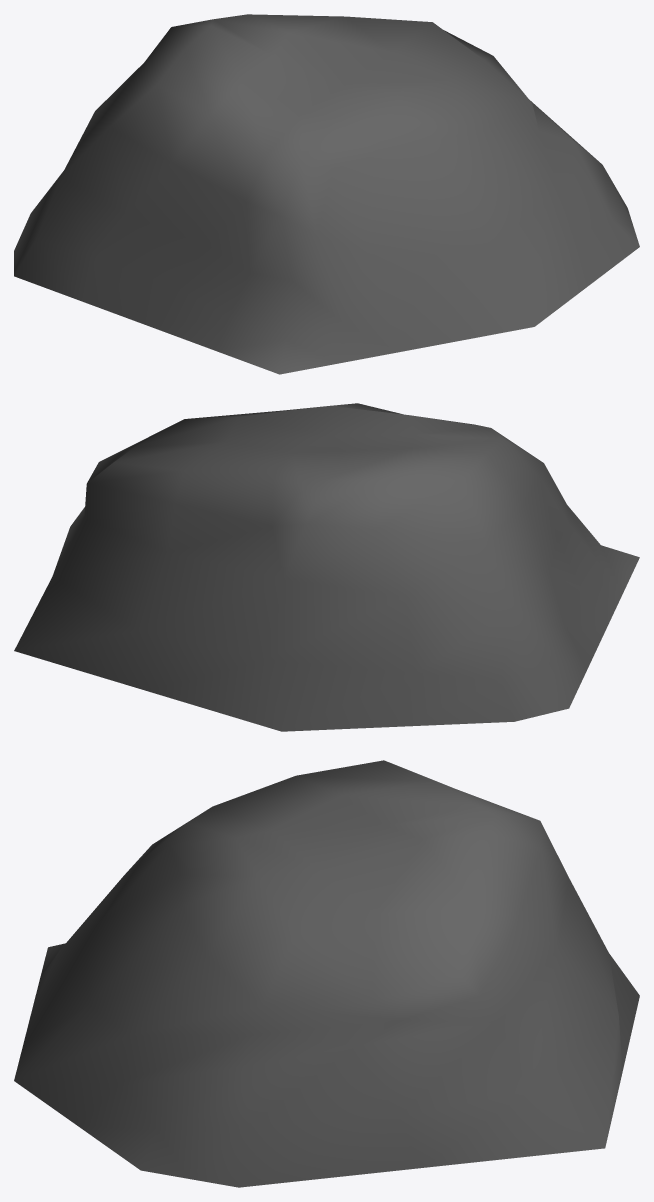
File: Rock.FBX
3 views of the same model, one above another, from view 1: azimuth 30°, elevation 25°; view 2: azimuth 150°, elevation 25°; view 3: azimuth 270°, elevation 25° (orthographic). The views are drawn at different scales.
Parts seen in each view (by area): view 1: Rock_Small; view 2: Rock_Small; view 3: Rock_Small.
Part boxes in pixels (left/top/right/bottom): Rock_Small: left=14, top=14, right=639, bottom=374; Rock_Small: left=14, top=403, right=639, bottom=731; Rock_Small: left=14, top=760, right=639, bottom=1187.
Size of the model in its own units: 14.7 by 4.83 by 13.17.
1 material, 1 textured.
